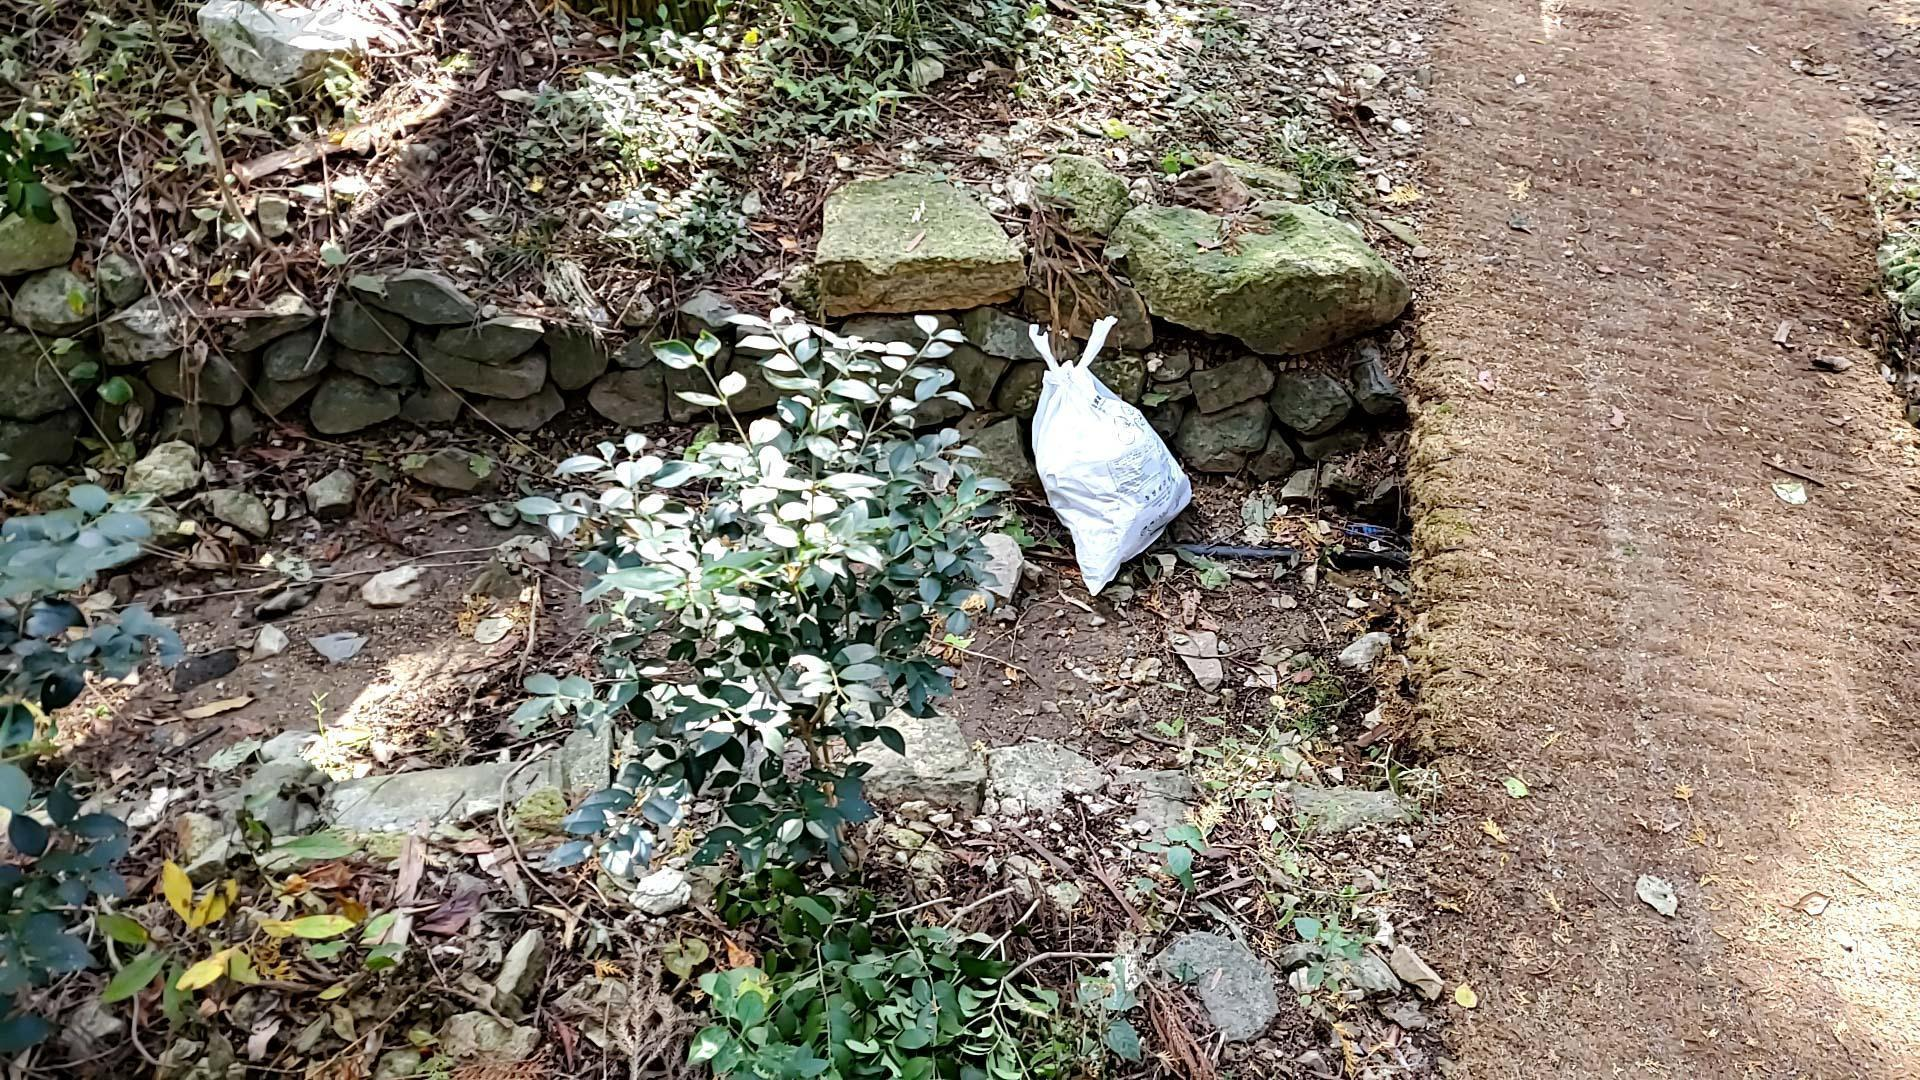white_bag: (1014, 307, 1212, 607)
